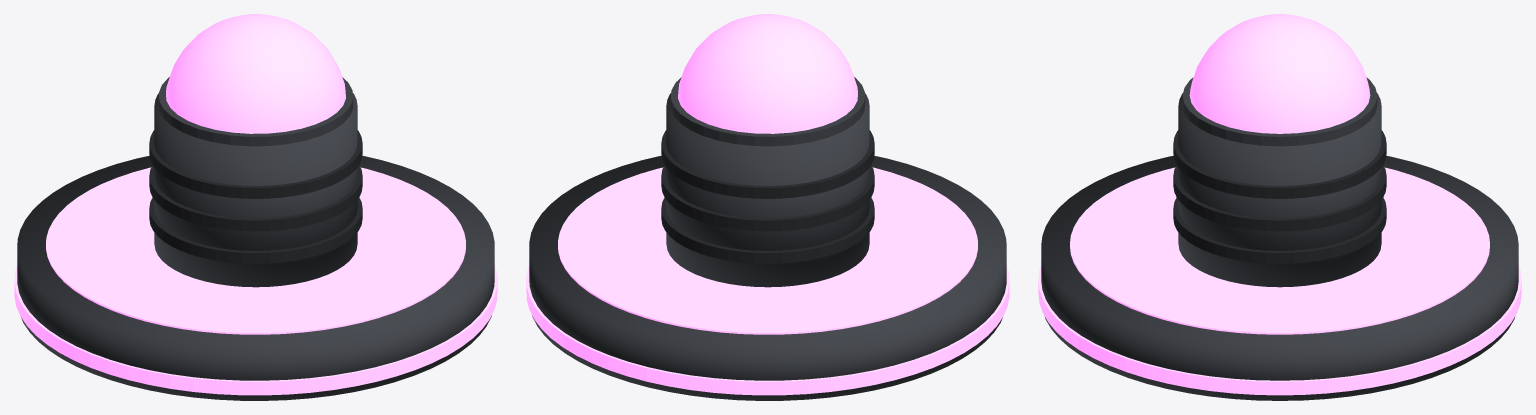
The model's file is rebatedor_gravity_volley_p1.glb.
3 views of the same model, side by side, from view 1: azimuth 30°, elevation 25°; view 2: azimuth 150°, elevation 25°; view 3: azimuth 270°, elevation 25° (orthographic).
Visible parts, largest first — view 1: Cylinder.002, Cylinder, Cylinder.003, Sphere, Cylinder.001, Cylinder.006, Cylinder.004, Cylinder.005, Cylinder.007; view 2: Cylinder.002, Cylinder, Cylinder.003, Sphere, Cylinder.001, Cylinder.006, Cylinder.004, Cylinder.005, Cylinder.007; view 3: Cylinder.002, Cylinder, Cylinder.003, Sphere, Cylinder.001, Cylinder.006, Cylinder.004, Cylinder.005, Cylinder.007.
Part boxes in pixels (bbox=[...]): Cylinder.002: bbox=[46, 167, 465, 334]; Cylinder: bbox=[17, 155, 494, 400]; Cylinder.003: bbox=[154, 93, 357, 287]; Sphere: bbox=[166, 14, 345, 133]; Cylinder.001: bbox=[14, 264, 497, 395]; Cylinder.006: bbox=[149, 130, 362, 198]; Cylinder.004: bbox=[149, 197, 362, 263]; Cylinder.005: bbox=[149, 165, 362, 231]; Cylinder.007: bbox=[158, 77, 353, 146]; Cylinder.002: bbox=[558, 167, 977, 334]; Cylinder: bbox=[529, 155, 1006, 400]; Cylinder.003: bbox=[666, 93, 869, 287]; Sphere: bbox=[678, 14, 857, 133]; Cylinder.001: bbox=[526, 264, 1009, 395]; Cylinder.006: bbox=[661, 130, 874, 198]; Cylinder.004: bbox=[661, 197, 874, 263]; Cylinder.005: bbox=[661, 165, 874, 231]; Cylinder.007: bbox=[670, 77, 865, 146]; Cylinder.002: bbox=[1070, 167, 1489, 334]; Cylinder: bbox=[1041, 155, 1518, 400]; Cylinder.003: bbox=[1178, 93, 1381, 287]; Sphere: bbox=[1189, 14, 1370, 133]; Cylinder.001: bbox=[1038, 265, 1521, 395]; Cylinder.006: bbox=[1173, 130, 1386, 198]; Cylinder.004: bbox=[1173, 197, 1386, 263]; Cylinder.005: bbox=[1173, 165, 1386, 231]; Cylinder.007: bbox=[1182, 77, 1377, 146].
Bounding box in the file's own units: 0.1619 × 0.1032 × 0.1619.
